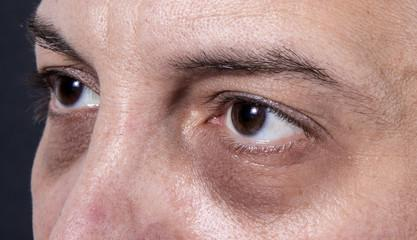Eyebags: (190, 134, 318, 215), (42, 113, 97, 168)
